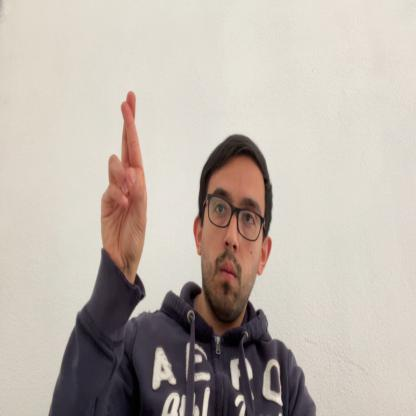R: (100, 90, 148, 273)
